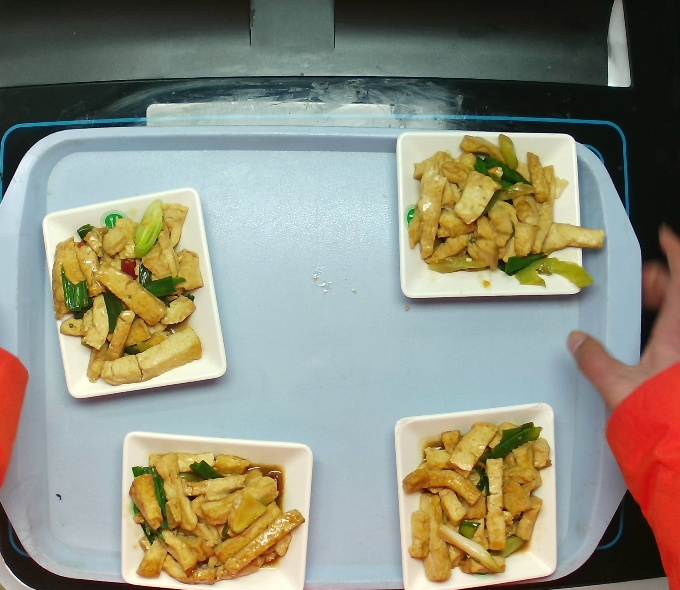wcq-SuanMiaoChaoXiangGan: (121, 436, 305, 589), (412, 138, 589, 294), (49, 212, 208, 380), (405, 406, 549, 587)
